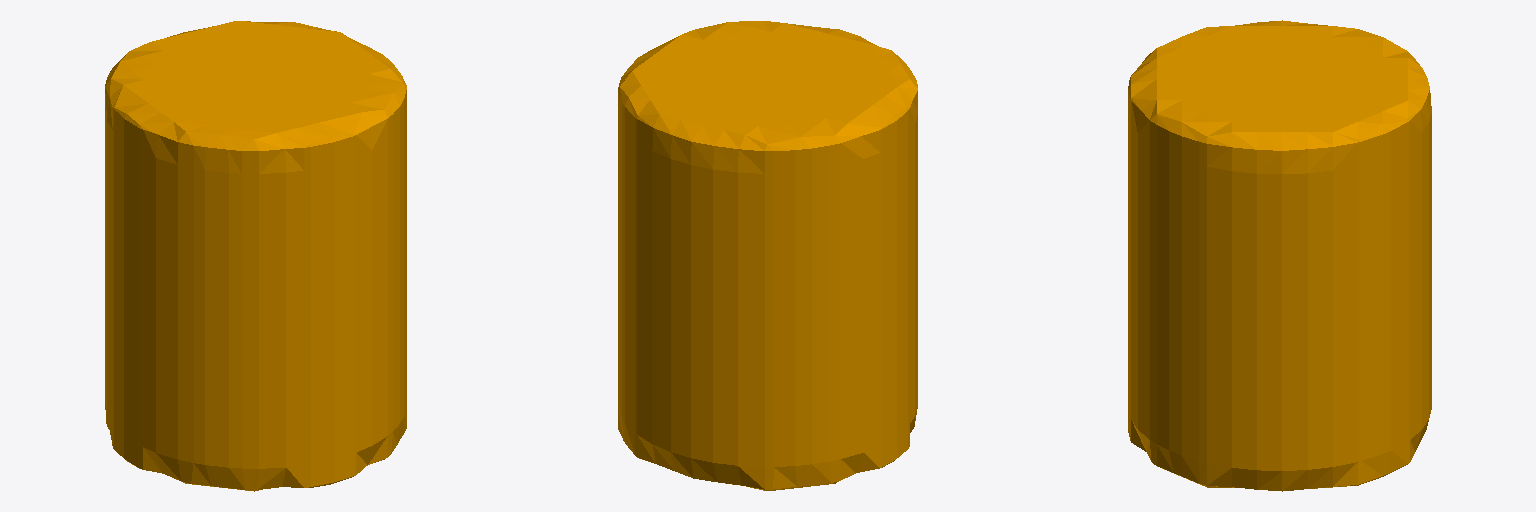
The robot description file, URDF, robot "cylinder_../../meshes/cylinders/cylinder_148.stl":
<?xml version="1.0" encoding="utf-8"?>  <robot name="cylinder_../../meshes/cylinders/cylinder_148.stl">   <link name="cylinder_../../meshes/cylinders/cylinder_148.stl">     <visual>       <geometry>         <mesh filename="../meshes/cylinders/cylinder_148.stl" scale="1 1 1"/>       </geometry>     </visual>     <collision>       <geometry>         <mesh filename="../meshes/cylinders/cylinder_148.stl" scale="1 1 1"/>       </geometry>     </collision>     <inertial>        <origin         xyz="0 0 0"         rpy="0 0 0" />       <mass value="0.22005969698446481"/>       <origin rpy="0 0 0" xyz="0 0 0"/>       <inertia ixx="0.00015938813660798458" ixy="1.313592817083585e-08" ixz="-2.7701002200254327e-08" iyy="0.00015938881313211763" iyz="-2.22871175625957e-08" izz="9.91078038625195e-05"/>     </inertial>   </link>  </robot>

--- What the picture shows (computed from the rendered views, not written in the file) ---
3 views of the same robot in one strip: view 1: azimuth 30°, elevation 25°; view 2: azimuth 150°, elevation 25°; view 3: azimuth 270°, elevation 25° (orthographic).
Model cylinder_../../meshes/cylinders/cylinder_148.stl with 1 links and 0 joints (none), rooted at cylinder_../../meshes/cylinders/cylinder_148.stl, posed every joint at zero.
Links seen in each view (by area): view 1: cylinder_../../meshes/cylinders/cylinder_148.stl; view 2: cylinder_../../meshes/cylinders/cylinder_148.stl; view 3: cylinder_../../meshes/cylinders/cylinder_148.stl.
Link boxes in pixels (x1,y1,x2,y2): cylinder_../../meshes/cylinders/cylinder_148.stl: (105,21,406,491); cylinder_../../meshes/cylinders/cylinder_148.stl: (618,21,917,490); cylinder_../../meshes/cylinders/cylinder_148.stl: (1128,20,1431,491).
Bounding box of the posed robot: 0.0603 × 0.0603 × 0.0778 m (x, y, z).
Meshes: 1 distinct files referenced, 1 mesh visuals loaded (1 binary STL).